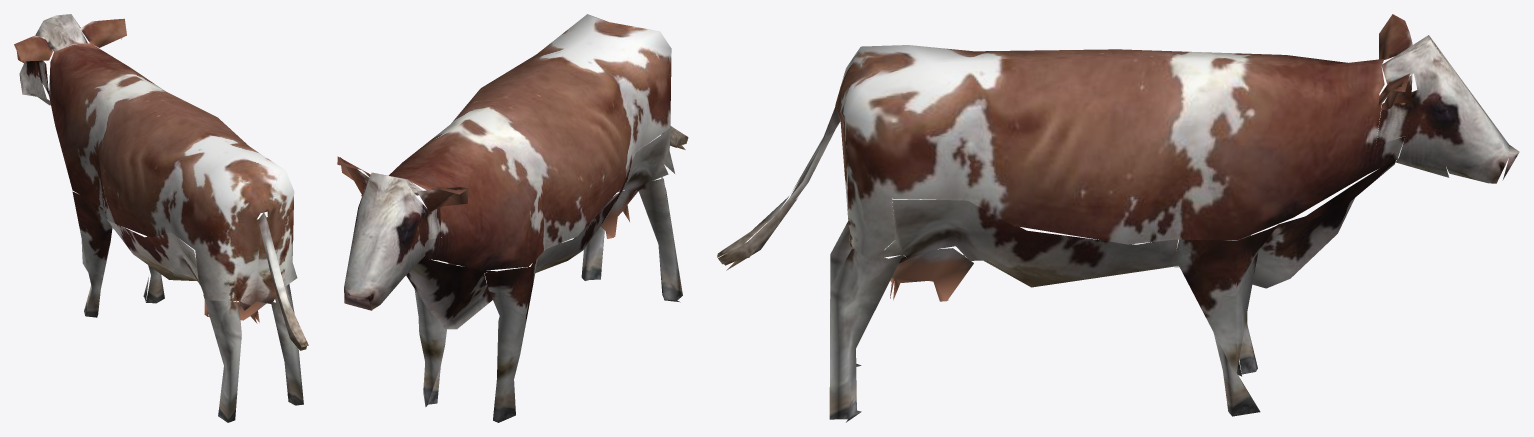
File: cow_red_lo.glb
3 views of the same model, side by side, from view 1: azimuth 30°, elevation 25°; view 2: azimuth 150°, elevation 25°; view 3: azimuth 270°, elevation 25° (orthographic). The views are drawn at different scales.
Parts seen in each view (by area): view 1: cow_red_lo; view 2: cow_red_lo; view 3: cow_red_lo.
Boxes of the visible parts, box(x1,y1,x2,y2) form: cow_red_lo: box(14, 14, 308, 422); cow_red_lo: box(337, 14, 688, 422); cow_red_lo: box(717, 14, 1519, 422).
Size of the model in its own units: 0.714 by 1.39 by 2.87.
1 material, 1 textured.
